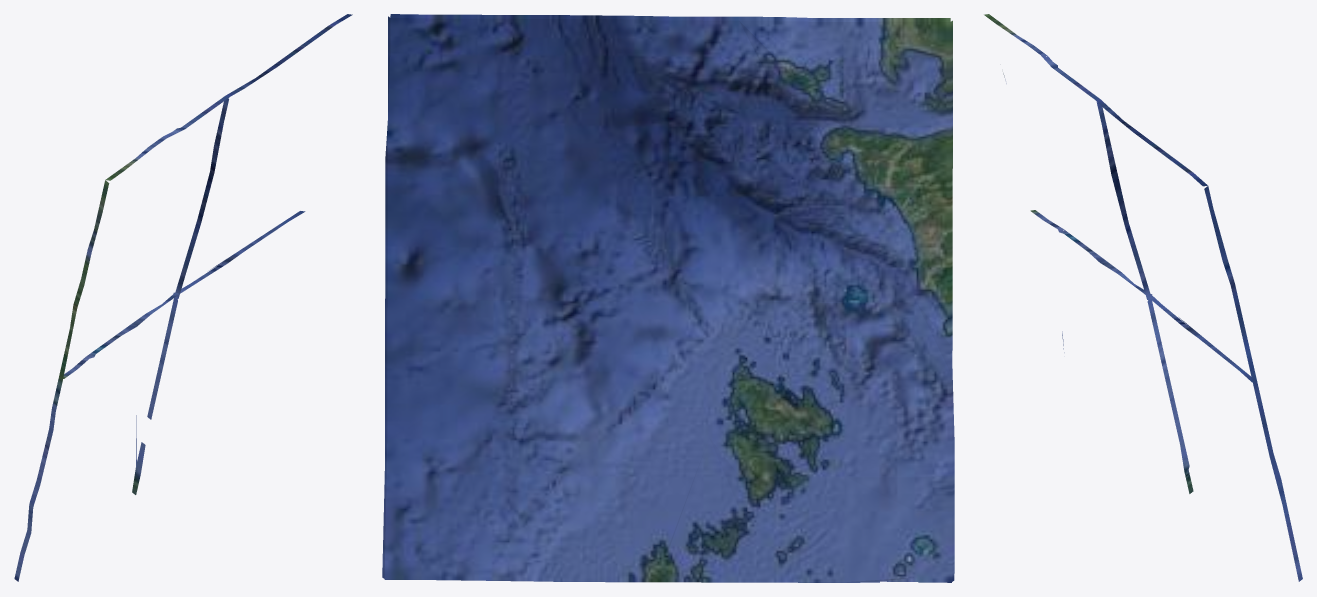
The picture shows the model from 3 angles, left to right: view 1: azimuth 30°, elevation 25°; view 2: azimuth 150°, elevation 25°; view 3: azimuth 270°, elevation 25°; orthographic projection. The views are drawn at different scales.
Size of the model in its own units: 305760 by 308526 by 212875.
1 material, 1 textured.
